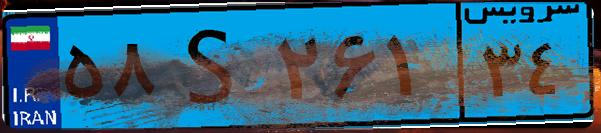1: (385, 28, 445, 110)
2: (270, 28, 330, 110)
3: (475, 38, 525, 113)
4: (525, 38, 570, 115)
5: (57, 26, 110, 100)
6: (330, 28, 385, 110)
8: (110, 28, 158, 98)
S: (158, 12, 270, 120)
